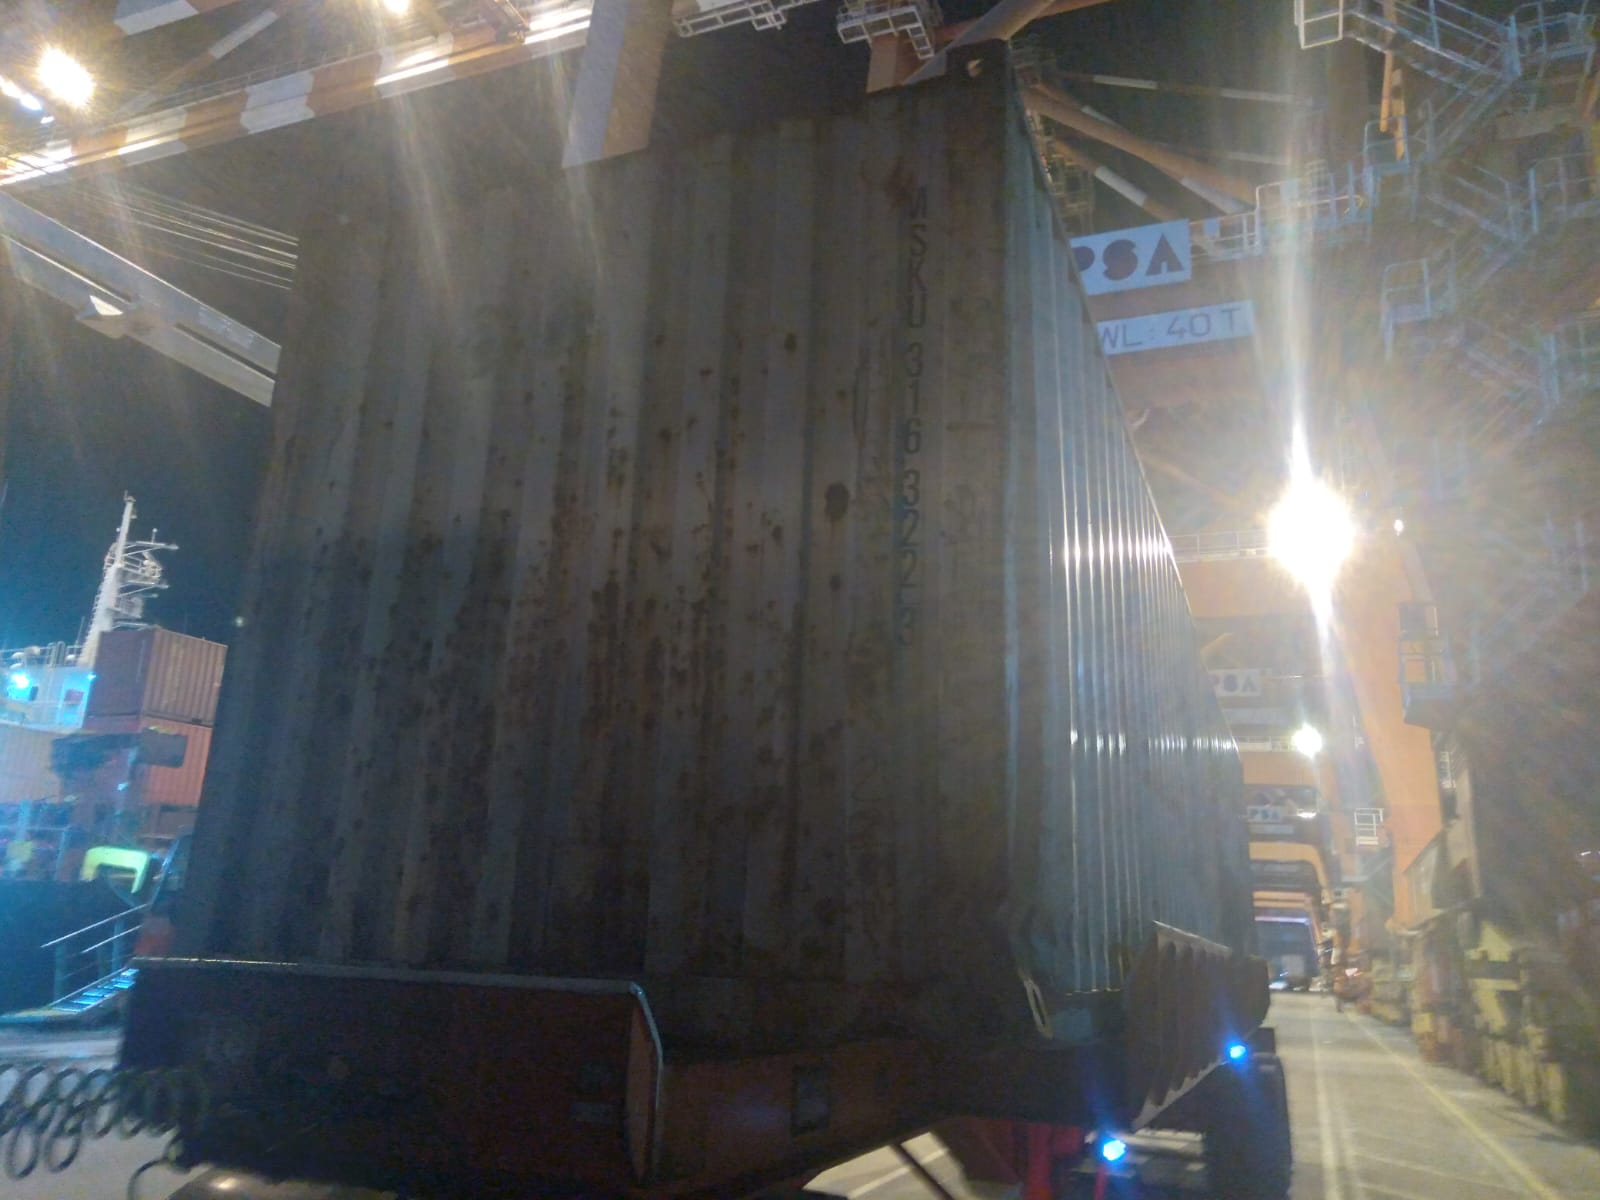moderate: (283, 313, 935, 942)
